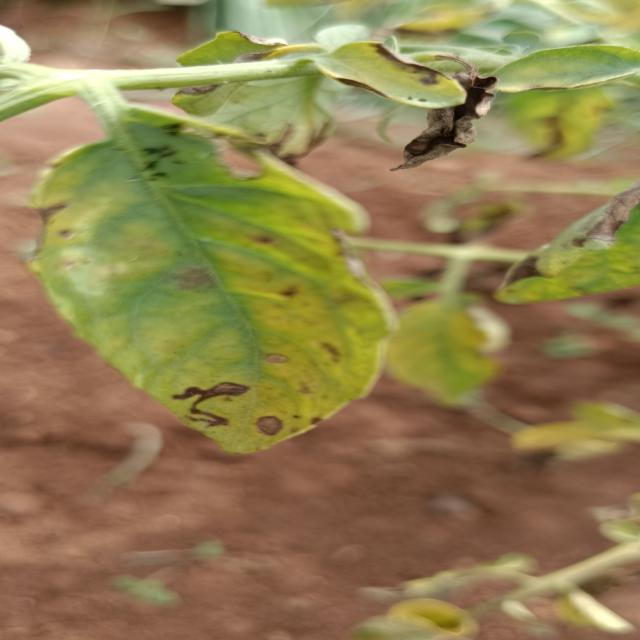tomato_early blight: (36, 112, 392, 458), (147, 25, 367, 168), (495, 187, 640, 294), (373, 297, 518, 403), (314, 43, 476, 108)
